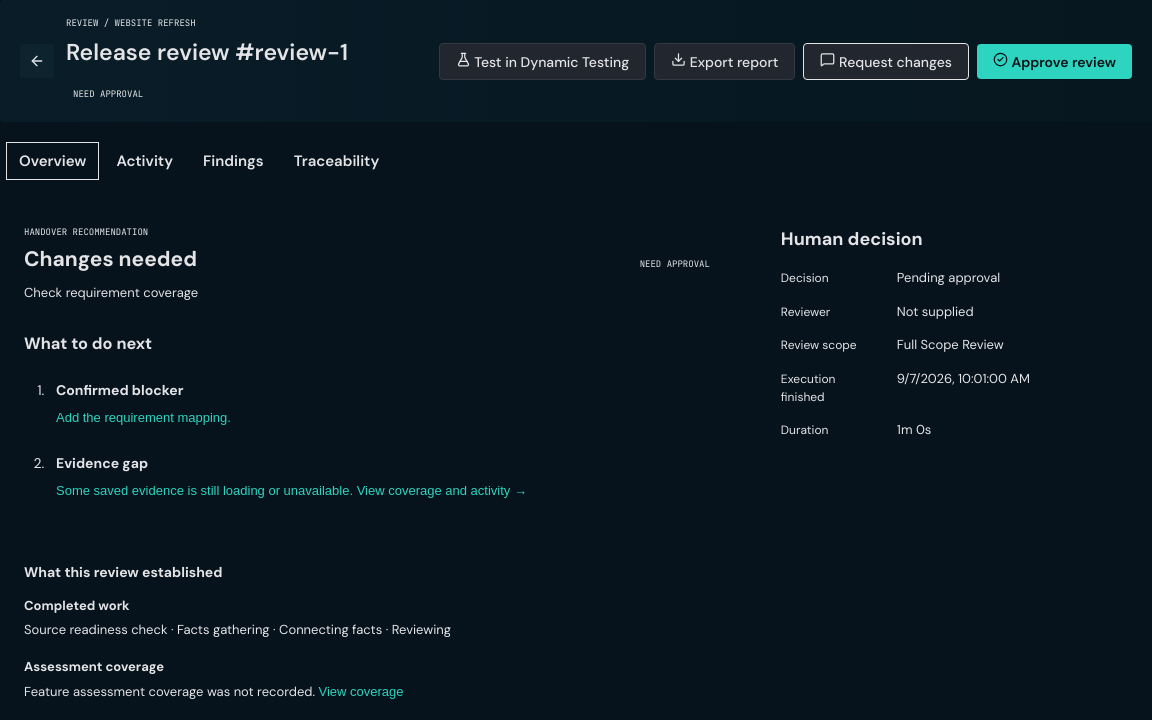
Test case: ReviewActivityScreen › opens direct review decisions from the header action region
Expected: the heading "Changes needed" is shown, top-left (24, 244), bottom-right (198, 275)
Click the button "Approve review" at [1054, 61], box top-left (977, 44), bottom-right (1132, 78)
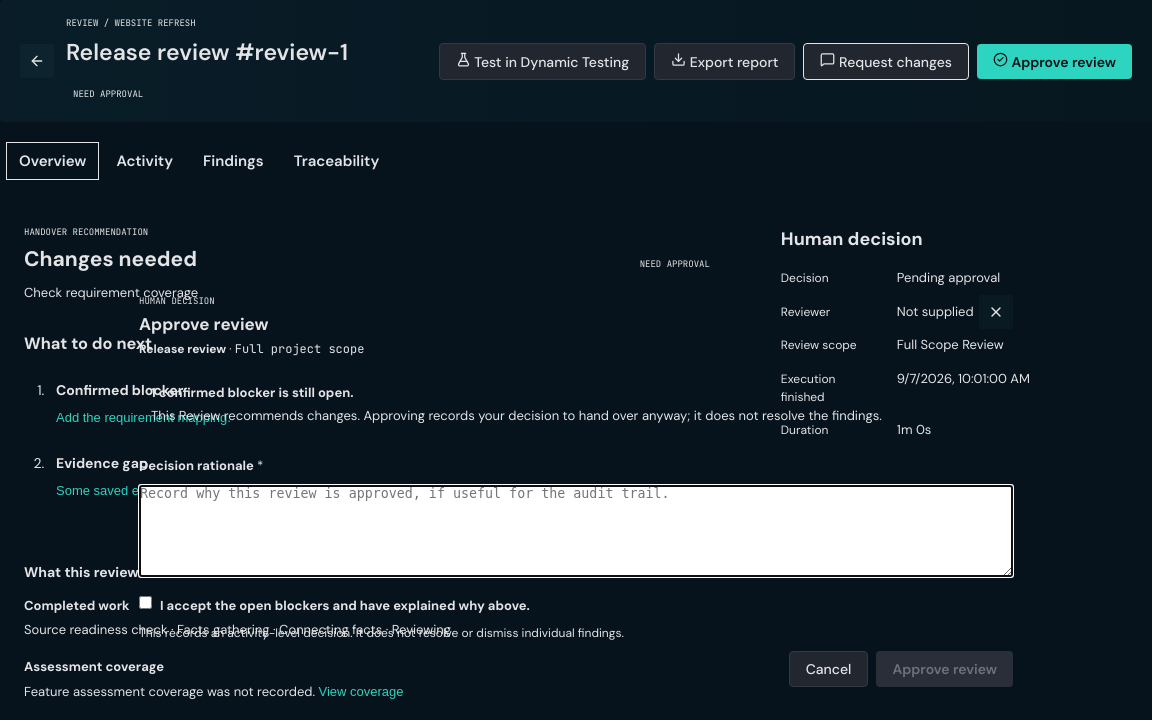
Result: the element "Approve review" is shown at top-left (116, 274), bottom-right (1036, 708)
